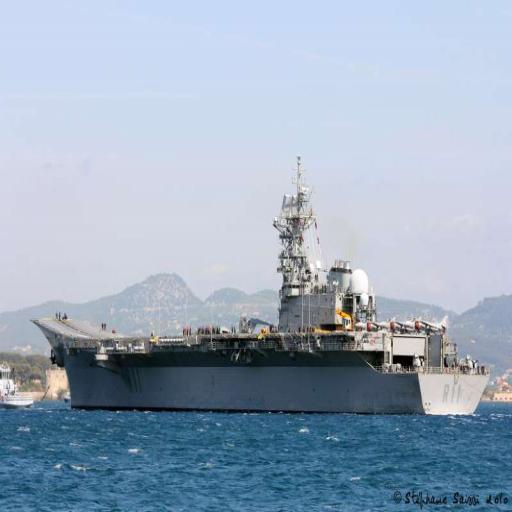Portanaves: (26, 149, 494, 414)
